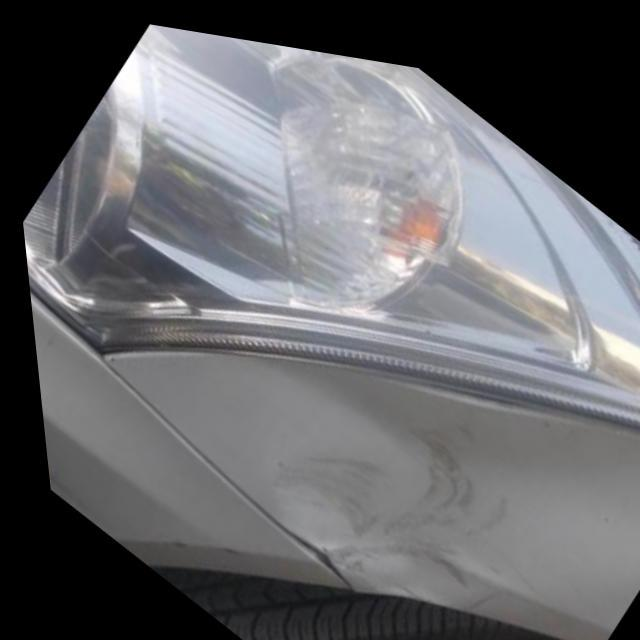rub: (256, 408, 518, 590)
